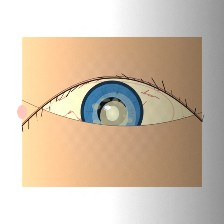corneal_ulcer: (89, 96, 139, 136)
